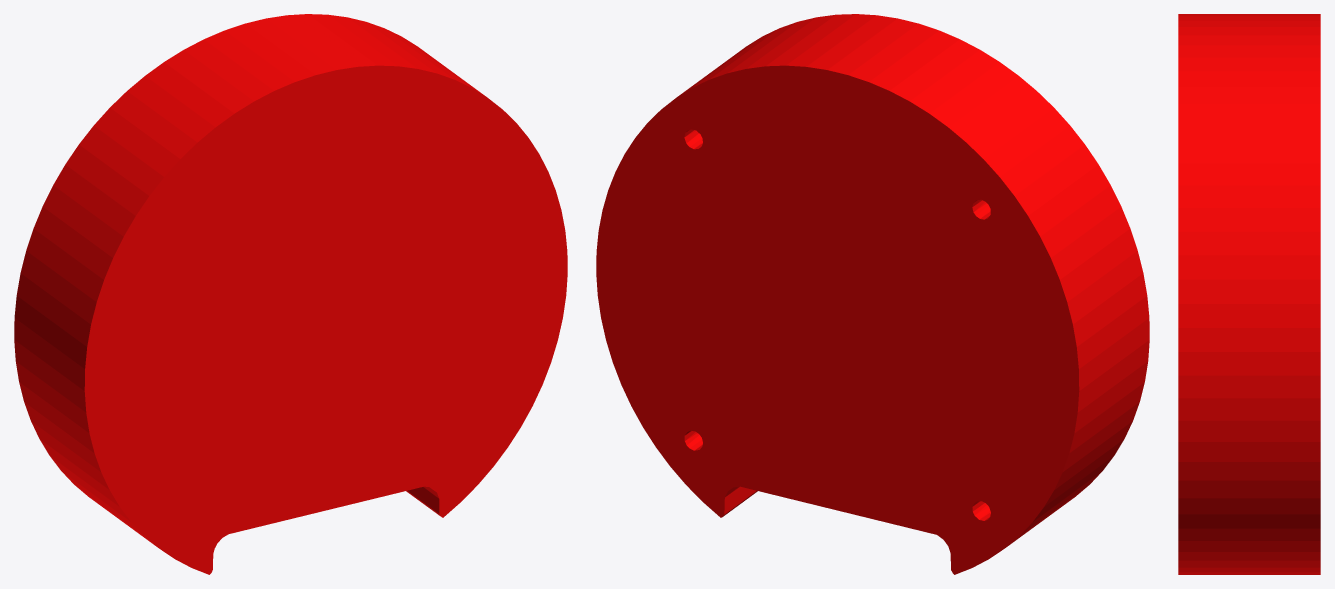
File: legs_1_right_leg_1_x4_1_pcb_1.glb
The picture shows the model from 3 angles, left to right: view 1: azimuth 30°, elevation 25°; view 2: azimuth 150°, elevation 25°; view 3: azimuth 270°, elevation 25°; orthographic projection.
Parts seen in each view (by area): view 1: legs_1_right_leg_1_x4_1_pcb_1.obj; view 2: legs_1_right_leg_1_x4_1_pcb_1.obj; view 3: legs_1_right_leg_1_x4_1_pcb_1.obj.
Part boxes in pixels (left/top/right/bottom): legs_1_right_leg_1_x4_1_pcb_1.obj: left=14, top=14, right=567, bottom=574; legs_1_right_leg_1_x4_1_pcb_1.obj: left=596, top=14, right=1149, bottom=574; legs_1_right_leg_1_x4_1_pcb_1.obj: left=1178, top=14, right=1320, bottom=574.
Size of the model in its own units: 0.0534 by 0.05 by 0.0135.
